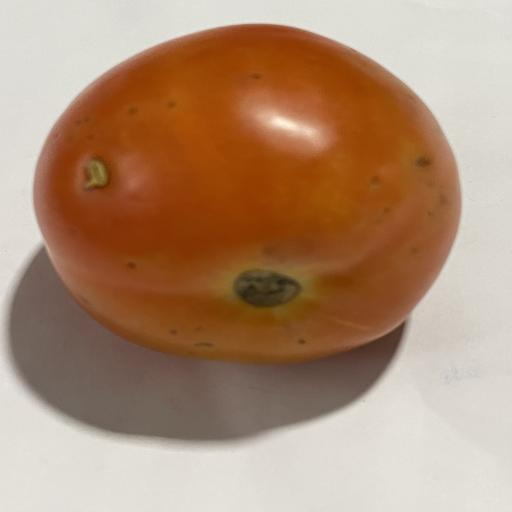ripe: (34, 24, 460, 363)
